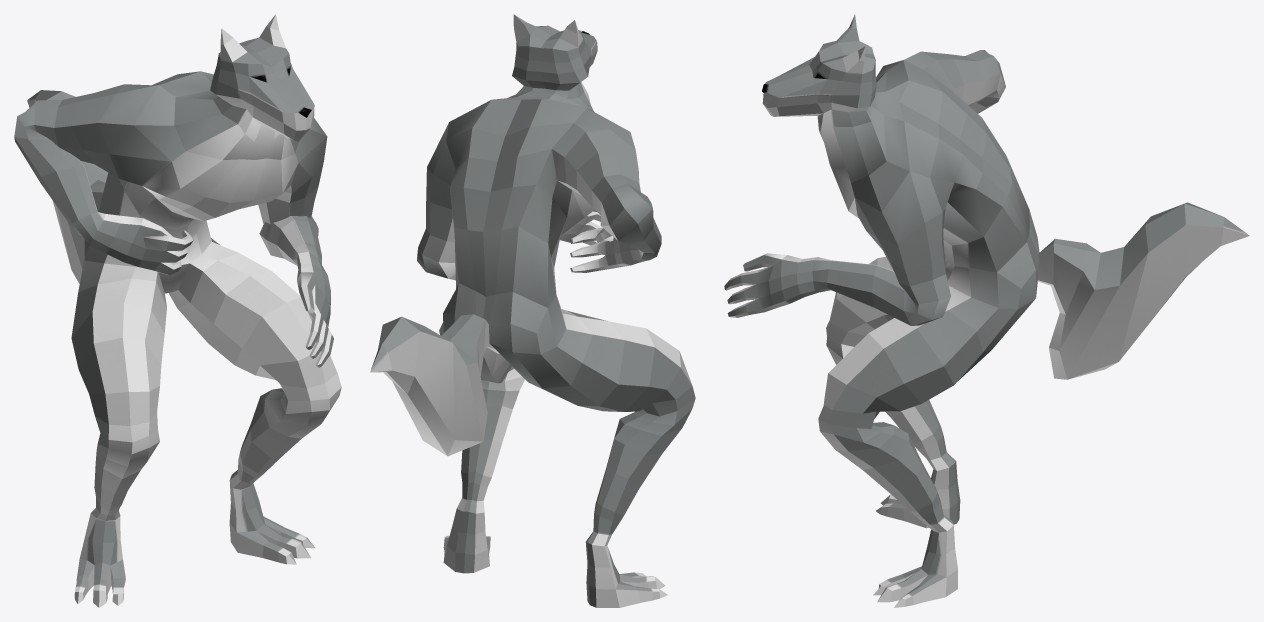
Rendered from WolfIdle_(71).obj.
3 views of the same model, side by side, from view 1: azimuth 30°, elevation 25°; view 2: azimuth 150°, elevation 25°; view 3: azimuth 270°, elevation 25° (orthographic). The views are drawn at different scales.
Visible parts, largest first — view 1: Box001; view 2: Box001; view 3: Box001.
Boxes of the visible parts, <box> form: Box001: <box>14,14,341,607</box>; Box001: <box>370,14,695,607</box>; Box001: <box>724,14,1249,607</box>.
Bounding box in the file's own units: 66.67 × 132 × 116.
